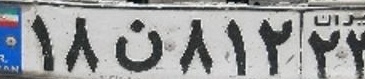character: (108, 12, 165, 77), (59, 11, 104, 79), (172, 11, 217, 77), (255, 13, 295, 79), (220, 11, 255, 79), (25, 11, 59, 73), (305, 25, 342, 79), (346, 26, 365, 79)
